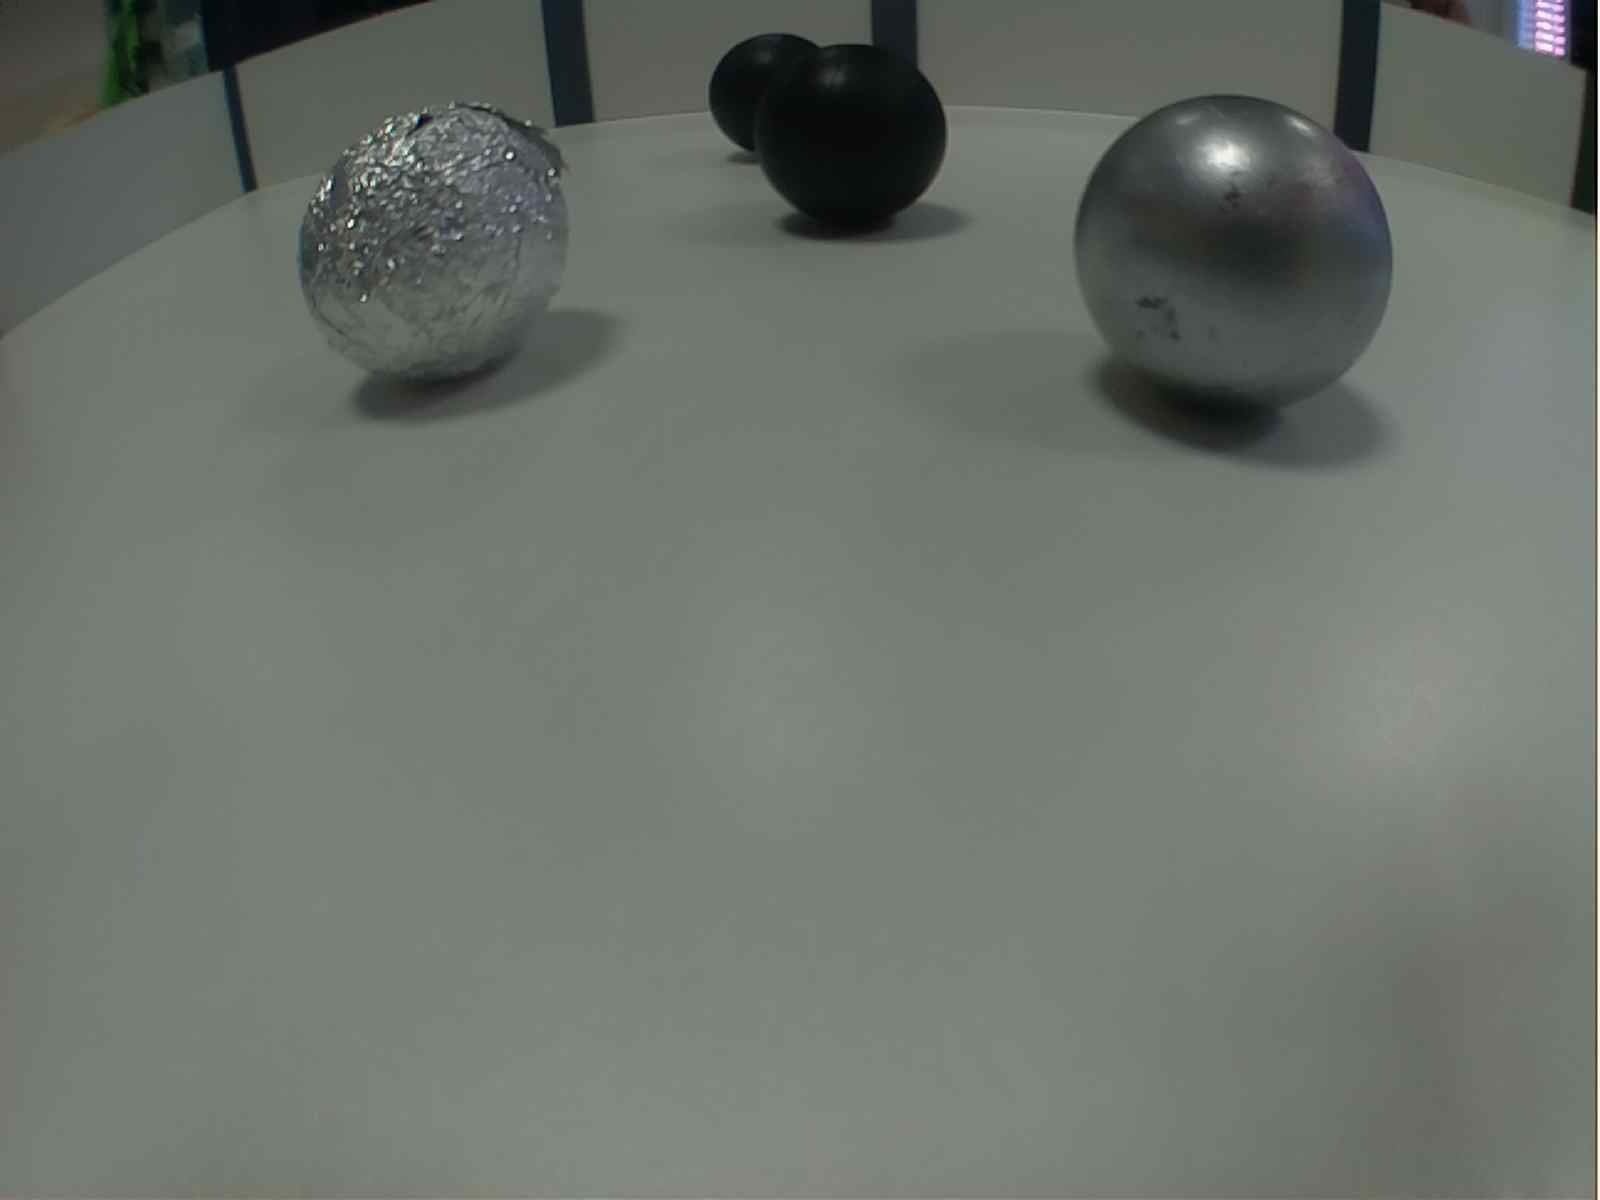bianca: (1068, 89, 1401, 424), (294, 102, 583, 392)
nera: (757, 42, 952, 237), (711, 32, 839, 160)
